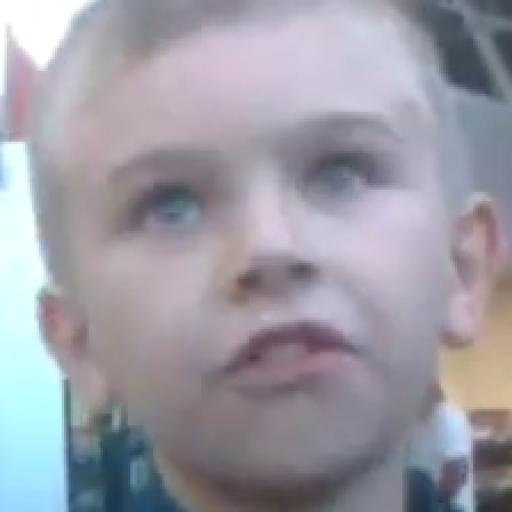Autism: (11, 45, 482, 512)
